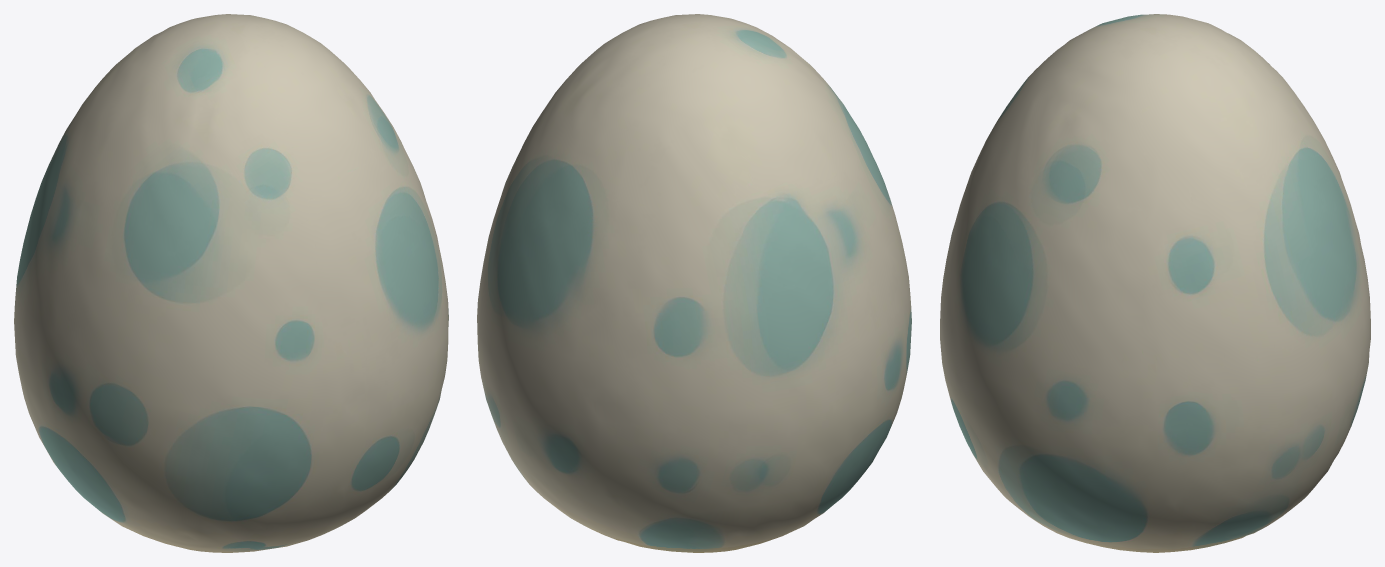
File: dino-egg.glb
The picture shows the model from 3 angles, left to right: view 1: azimuth 30°, elevation 25°; view 2: azimuth 150°, elevation 25°; view 3: azimuth 270°, elevation 25°; orthographic projection.
Parts seen in each view (by area): view 1: Dino Egg; view 2: Dino Egg; view 3: Dino Egg.
Part boxes in pixels (left/top/right/bottom): Dino Egg: left=14, top=14, right=448, bottom=552; Dino Egg: left=477, top=14, right=911, bottom=552; Dino Egg: left=940, top=14, right=1370, bottom=552.
Bounding box in the file's own units: 0.7832 × 0.998 × 0.7832.
1 material, 1 textured.
